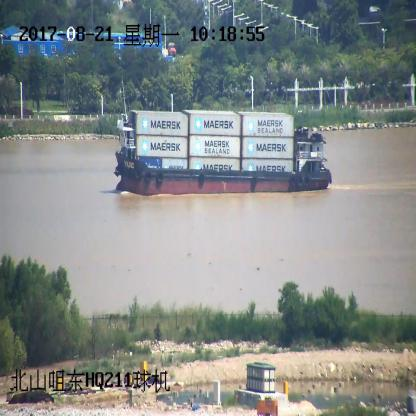Container Ship: (114, 78, 332, 194)
